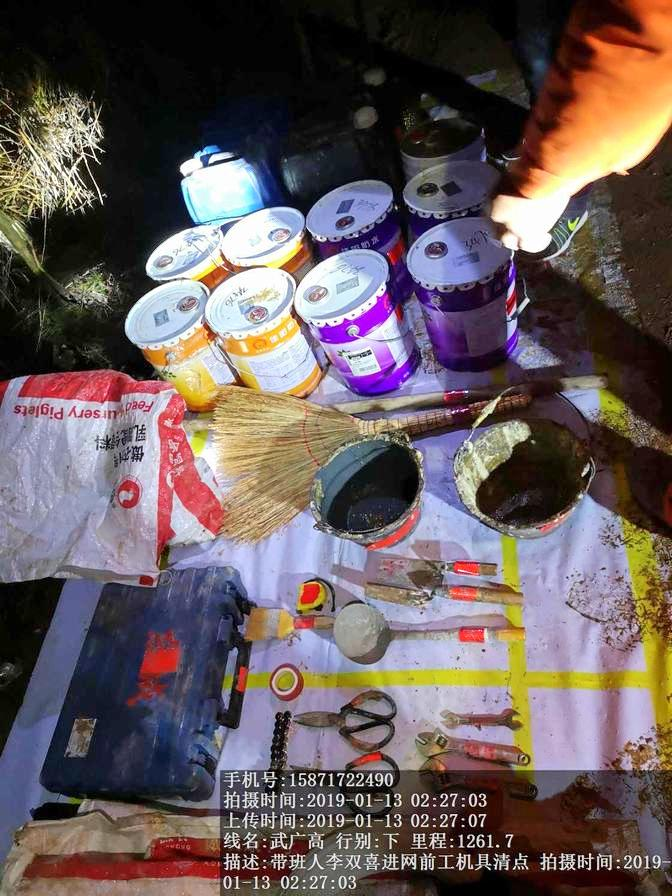SNT: (450, 422, 601, 548), (306, 434, 442, 549)
